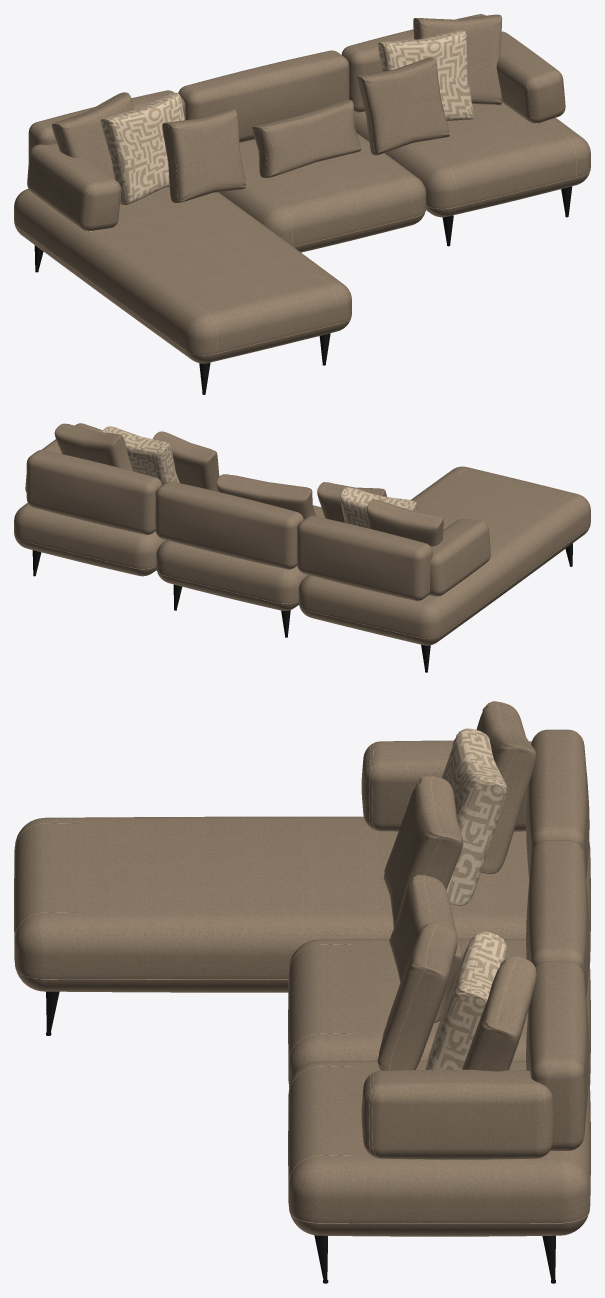
Rendered from chaise.glb.
3 views of the same model, one above another, from view 1: azimuth 30°, elevation 25°; view 2: azimuth 150°, elevation 25°; view 3: azimuth 270°, elevation 25° (orthographic). The views are drawn at different scales.
Visible parts, largest first — view 1: fabric, pillows, accent, trim, legs; view 2: fabric, pillows, accent, legs, trim; view 3: fabric, pillows, accent (×2), trim, legs.
Part boxes in pixels (x1,y1,x2,y2): fabric: [14, 14, 590, 363]; pillows: [52, 14, 502, 202]; accent: [100, 30, 473, 205]; trim: [16, 71, 590, 360]; legs: [34, 186, 572, 394]; fabric: [14, 423, 590, 645]; pillows: [54, 423, 443, 546]; accent: [102, 426, 417, 528]; legs: [32, 543, 572, 672]; trim: [14, 423, 588, 638]; fabric: [14, 729, 590, 1236]; pillows: [377, 701, 536, 1071]; accent (×2): [389, 702, 518, 1070]; trim: [14, 742, 589, 1223]; legs: [46, 991, 555, 1283].
Bounding box in the file's own units: 3 × 1 × 2.
4 materials, 2 textured.
